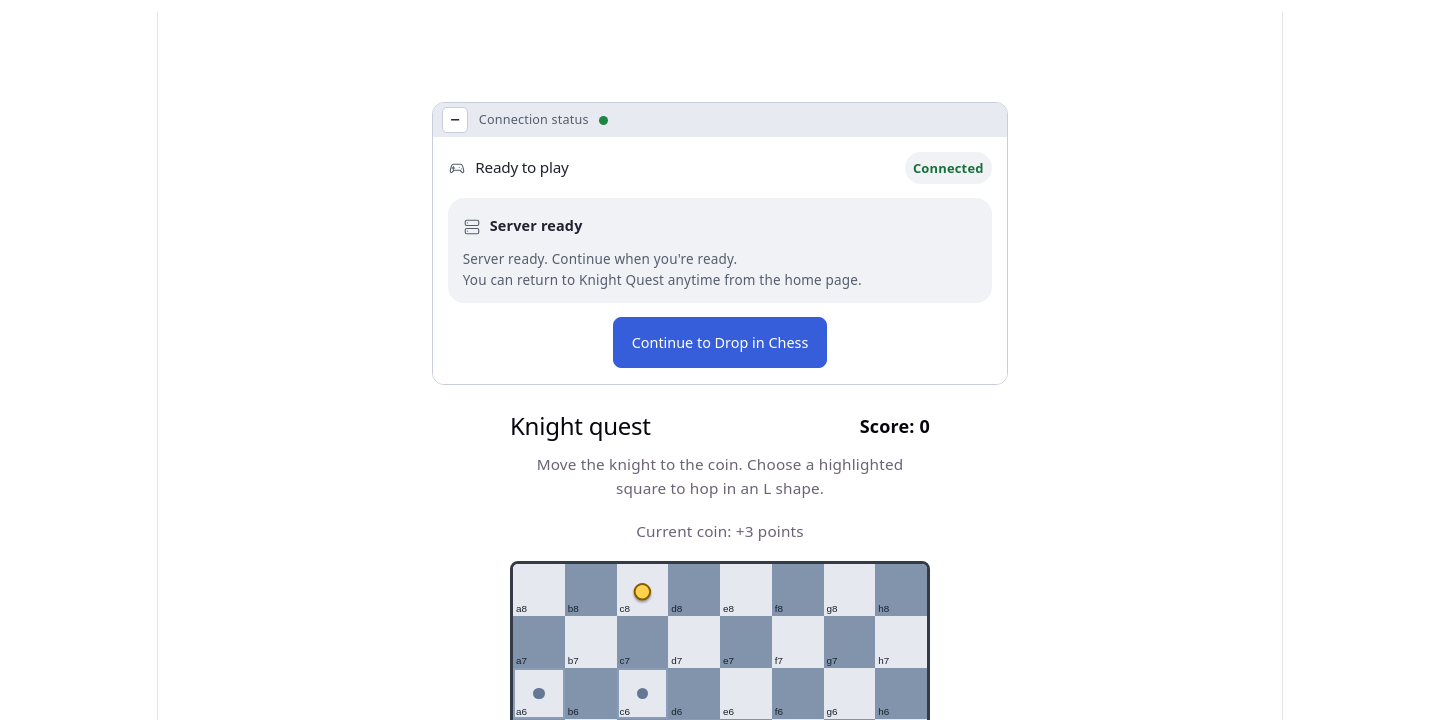
Test: holds game UI until health succeeds
The width and height of the screenshot is (1440, 720).
Expected: the text "Play Now" is not shown
Click the button "Continue to Drop in Chess" at coordinates (720, 343), box [613, 317, 827, 368]
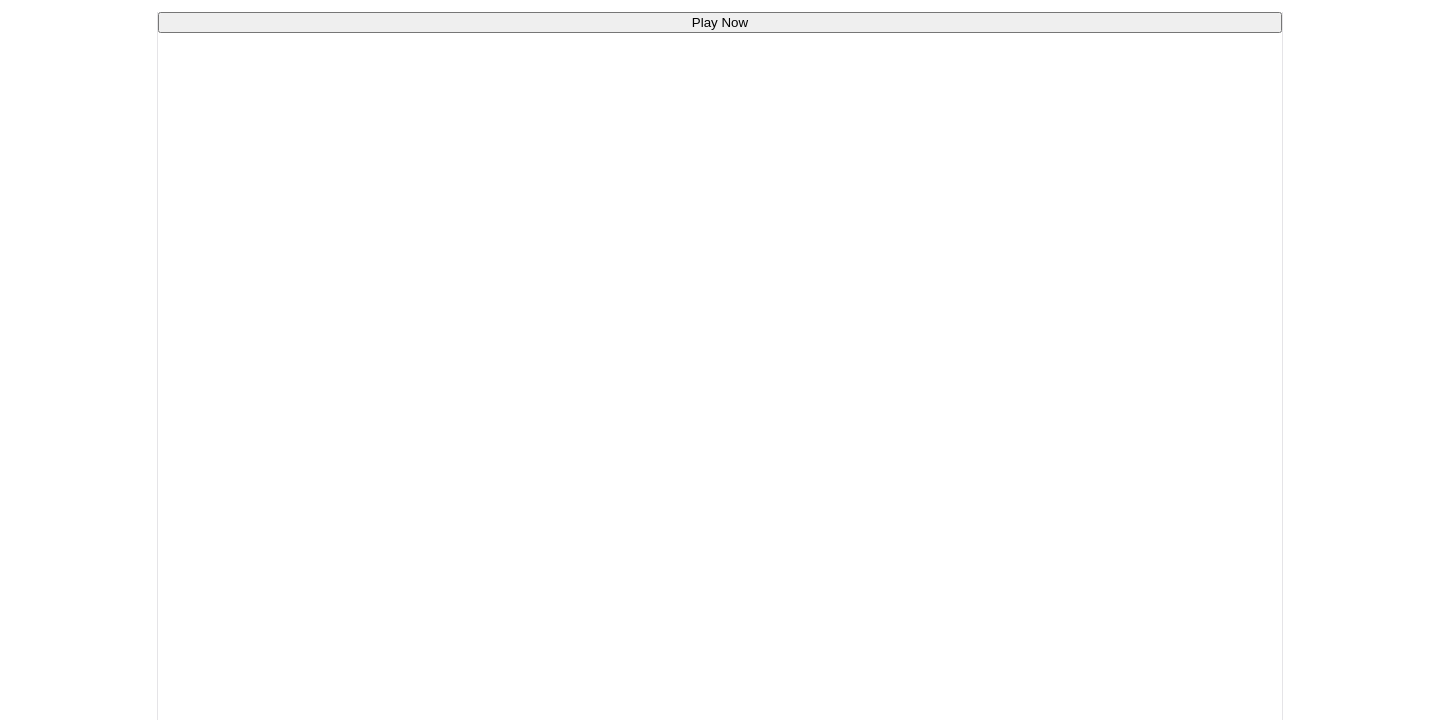
Expected: the button "Play Now" is shown, [158, 12, 1282, 33]
